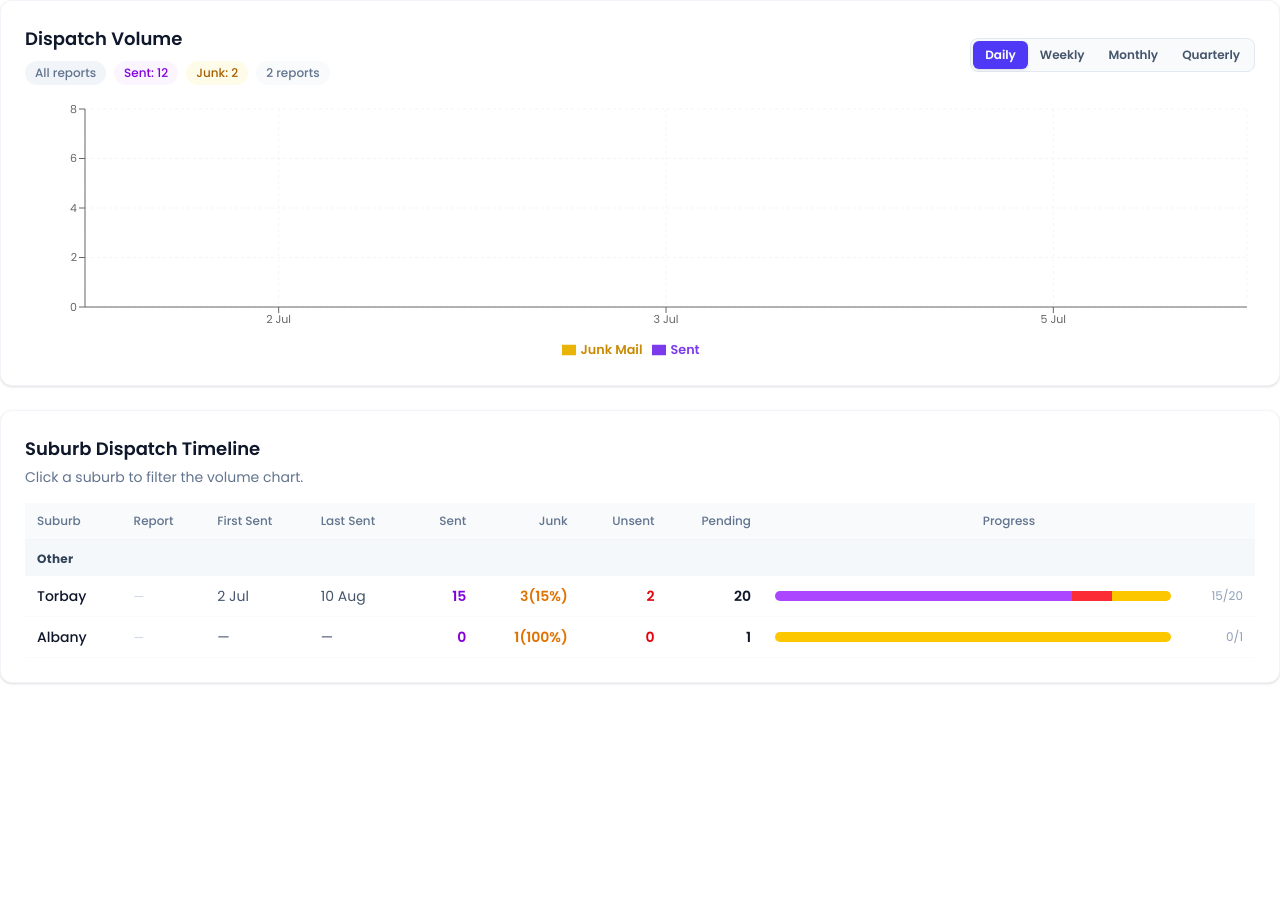
Scenario: DispatchTrendSection › switches granularity and recomputes totals
The image size is (1280, 900).
Expected: the text "Sent: 12" is shown, [114,61,178,85]
Click the button "Quarterly" at (1211, 55), box [1170,41,1252,69]
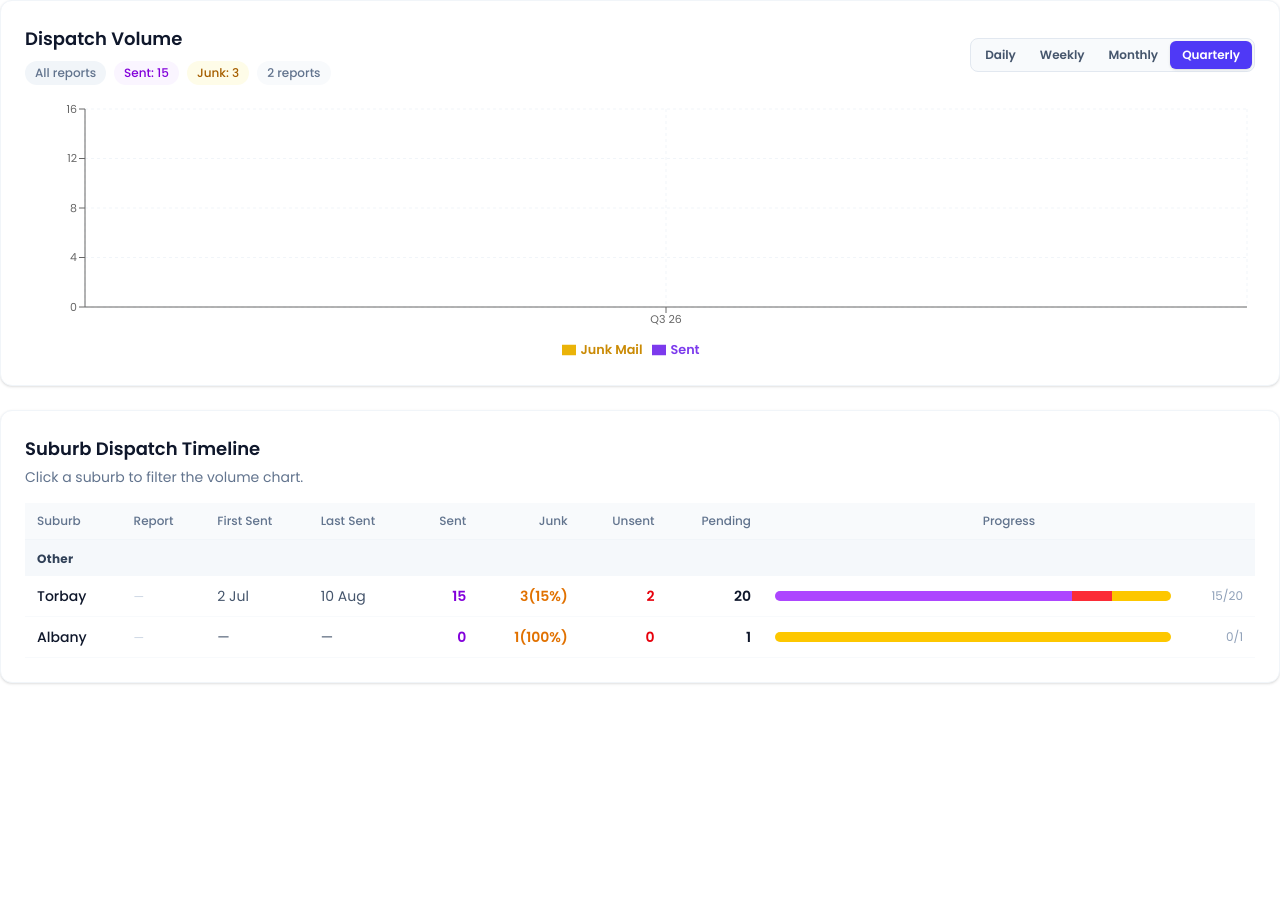
Expected: the text "Sent: 15" is shown, [114,61,179,85]
Click the button "Daily" at (1001, 55), box [973,41,1028,69]
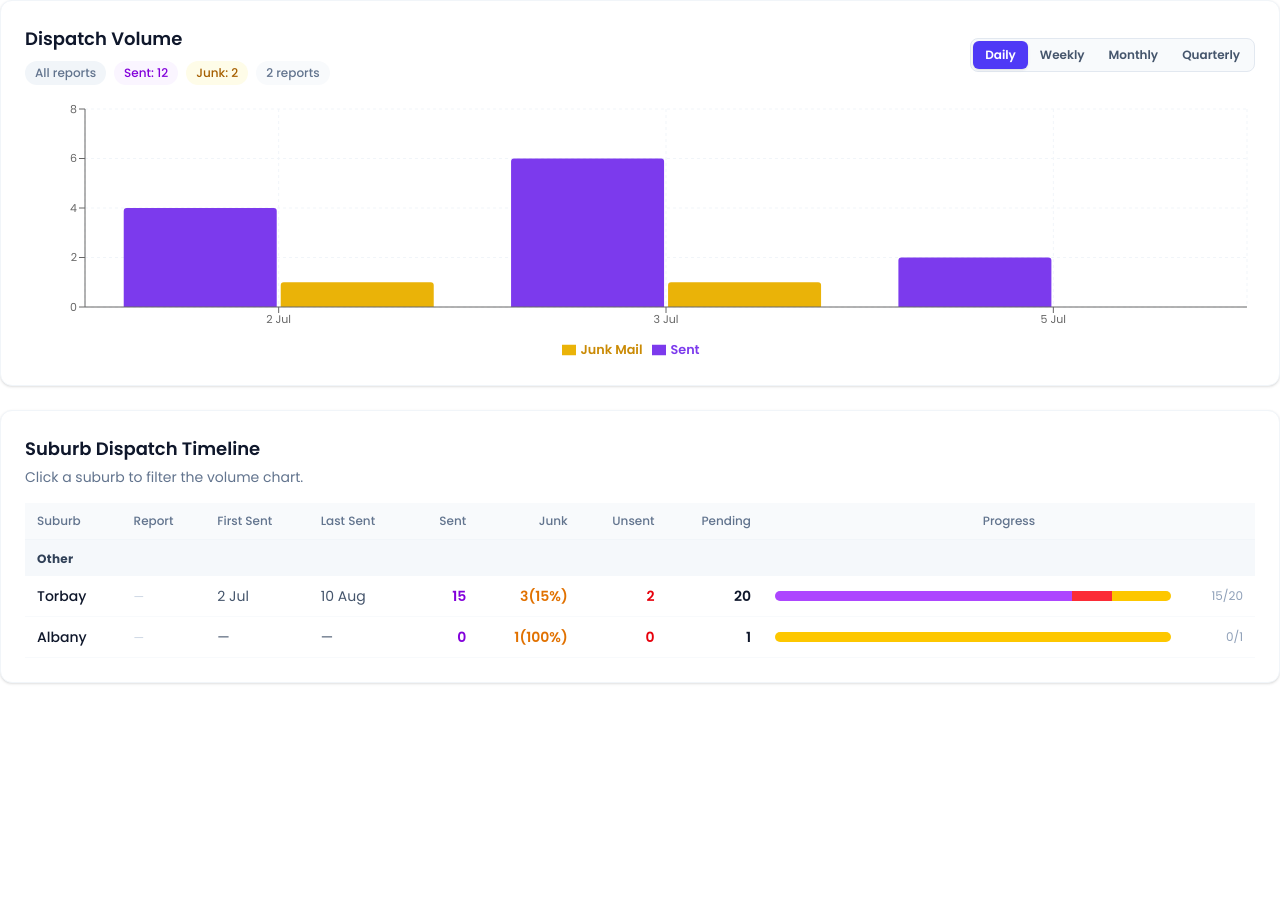
Expected: the text "Sent: 12" is shown, [114,61,178,85]
Expected: the text "Junk: 2" is shown, [186,61,248,85]
